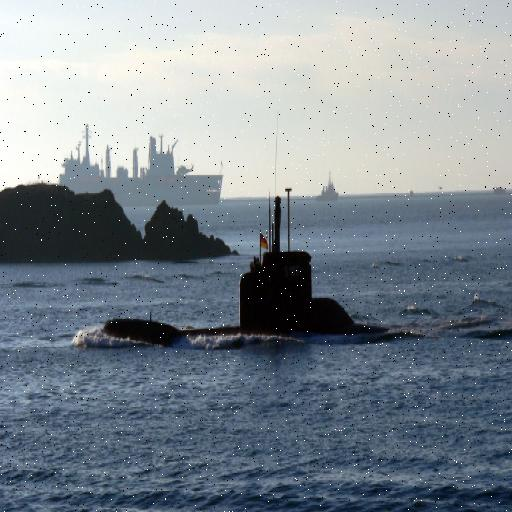submarine: (83, 250, 415, 342)
